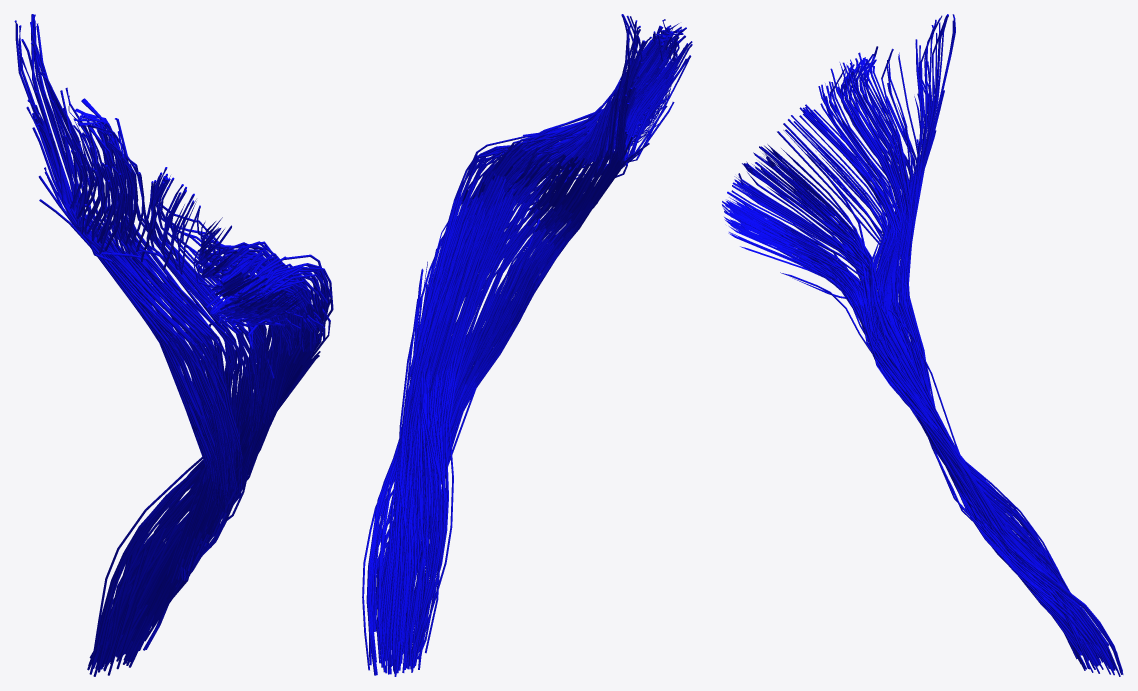
File: CST.glb
3 renders of one model, left to right at view 1: azimuth 30°, elevation 25°; view 2: azimuth 150°, elevation 25°; view 3: azimuth 270°, elevation 25°, orthographic. The views are drawn at different scales.
Parts seen in each view (by area): view 1: Tract_CST; view 2: Tract_CST; view 3: Tract_CST.
Part boxes in pixels (<box>): Tract_CST: <box>14,14,333,676</box>; Tract_CST: <box>362,14,692,676</box>; Tract_CST: <box>722,14,1123,676</box>.
Size of the model in its own units: 31.58 by 81.28 by 50.15.
